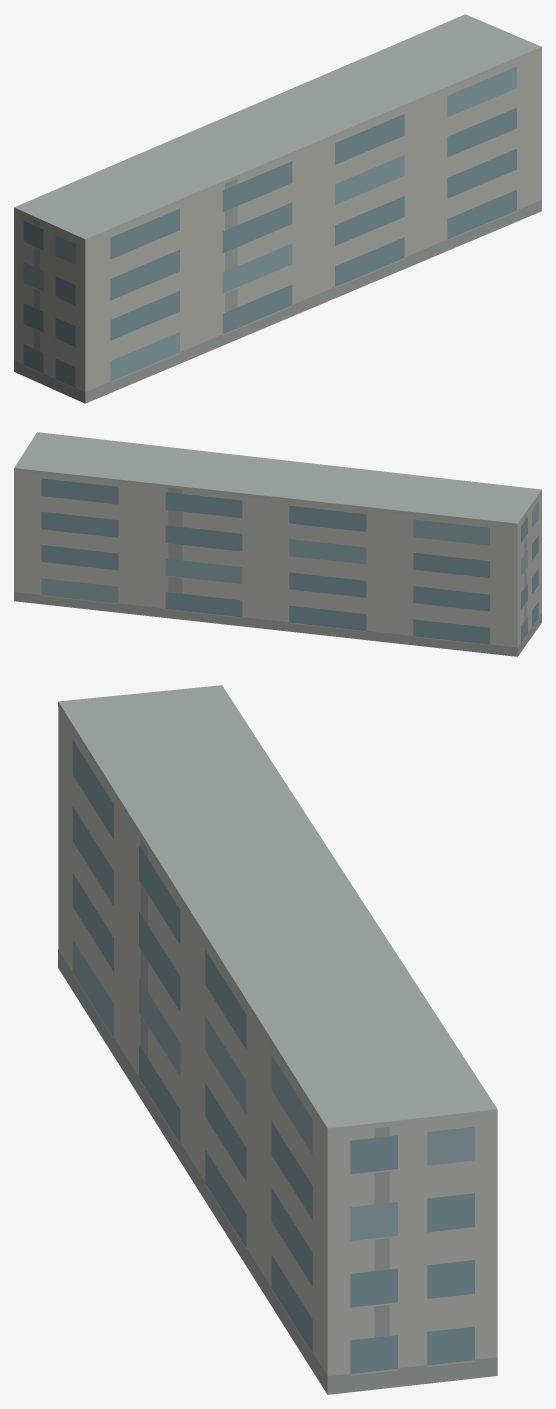
File: survey-upis-32766108.glb
The picture shows the model from 3 angles, top to bottom: view 1: azimuth 30°, elevation 25°; view 2: azimuth 150°, elevation 25°; view 3: azimuth 270°, elevation 25°; orthographic projection. The views are drawn at different scales.
Visible parts, largest first — view 1: survey-upis-32766108.tmp; view 2: survey-upis-32766108.tmp; view 3: survey-upis-32766108.tmp.
Part boxes in pixels (left/top/right/bottom): survey-upis-32766108.tmp: left=14, top=14, right=541, bottom=403; survey-upis-32766108.tmp: left=14, top=432, right=541, bottom=656; survey-upis-32766108.tmp: left=58, top=685, right=497, bottom=1394.
Bounding box in the file's own units: 43.54 × 12.2 × 18.25.
